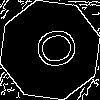O: (25, 25, 80, 74)
